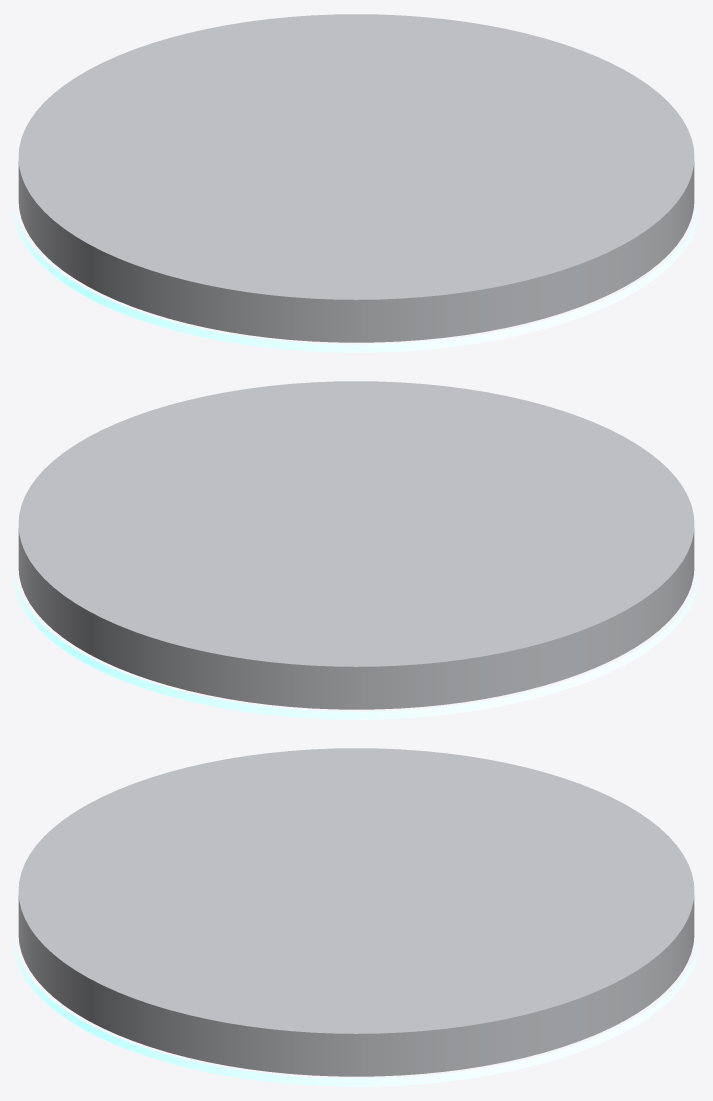
The model's file is plinth.gltf.
3 views of the same model, one above another, from view 1: azimuth 30°, elevation 25°; view 2: azimuth 150°, elevation 25°; view 3: azimuth 270°, elevation 25° (orthographic).
Visible parts, largest first — view 1: Plinth, Rim; view 2: Plinth, Rim; view 3: Plinth, Rim.
Part boxes in pixels (x1,y1,x2,y2): Plinth: (18, 14, 694, 342); Rim: (14, 202, 698, 352); Plinth: (18, 381, 694, 709); Rim: (14, 569, 698, 719); Plinth: (18, 748, 694, 1076); Rim: (14, 936, 698, 1086).
Bounding box in the file's own units: 3.04 × 0.25 × 3.04.
